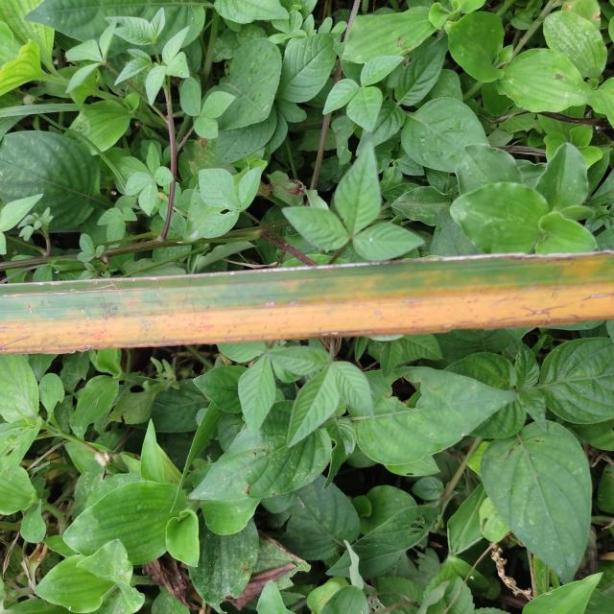Megnesium: (0, 250, 614, 356)
